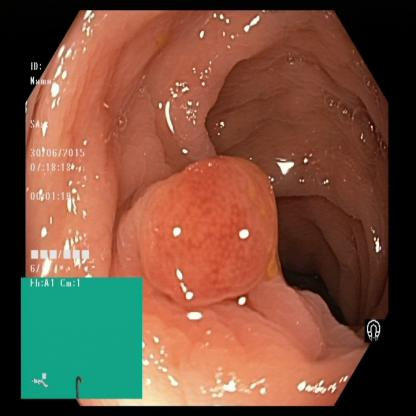Labels: (24, 58, 107, 275), (21, 281, 145, 397), (357, 306, 393, 355)
Polyps: (128, 160, 293, 287)
